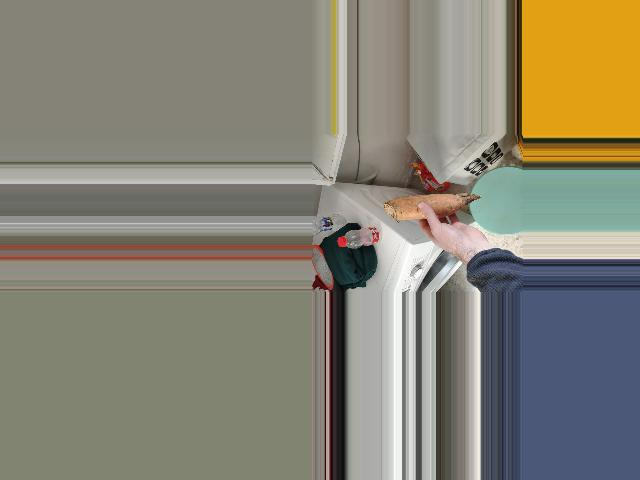sweet_potato: (390, 194, 479, 219)
